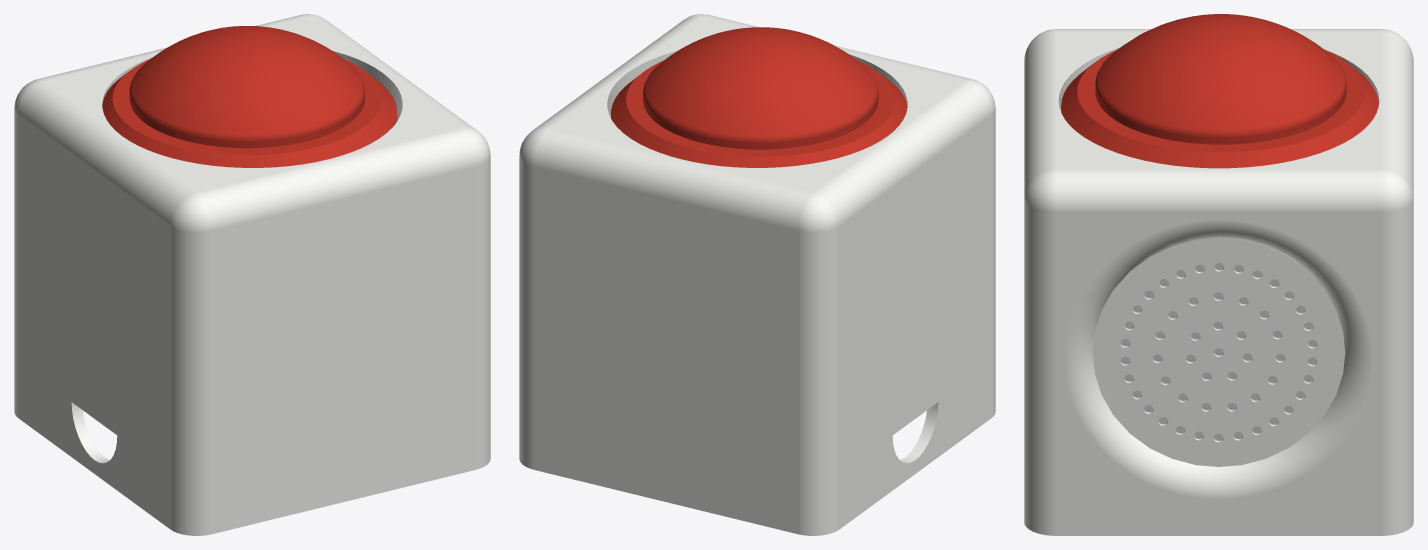
The model's file is PiTalkingBox_Feb2021.fbx.
3 renders of one model, left to right at view 1: azimuth 30°, elevation 25°; view 2: azimuth 150°, elevation 25°; view 3: azimuth 270°, elevation 25°, orthographic. The views are drawn at different scales.
Visible parts, largest first — view 1: Body1, Big Ass button; view 2: Body1, Big Ass button; view 3: Body1, Big Ass button, gril.
Boxes of the visible parts, x1,y1,x2,y2 form: Body1: [14, 14, 490, 535]; Big Ass button: [102, 26, 396, 167]; Body1: [519, 14, 995, 535]; Big Ass button: [611, 27, 907, 167]; Body1: [1024, 29, 1413, 535]; Big Ass button: [1061, 14, 1378, 168]; gril: [1120, 263, 1317, 440].
Bounding box in the file's own units: 120 × 143 × 120.
